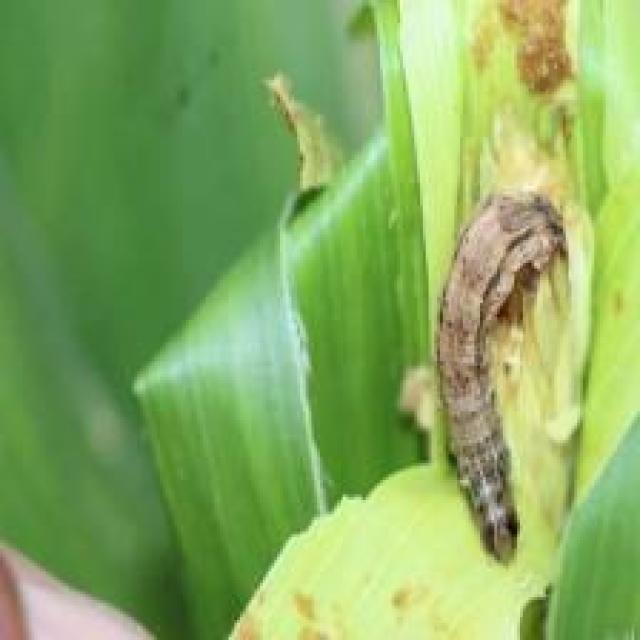Plaga: (428, 151, 580, 588)
